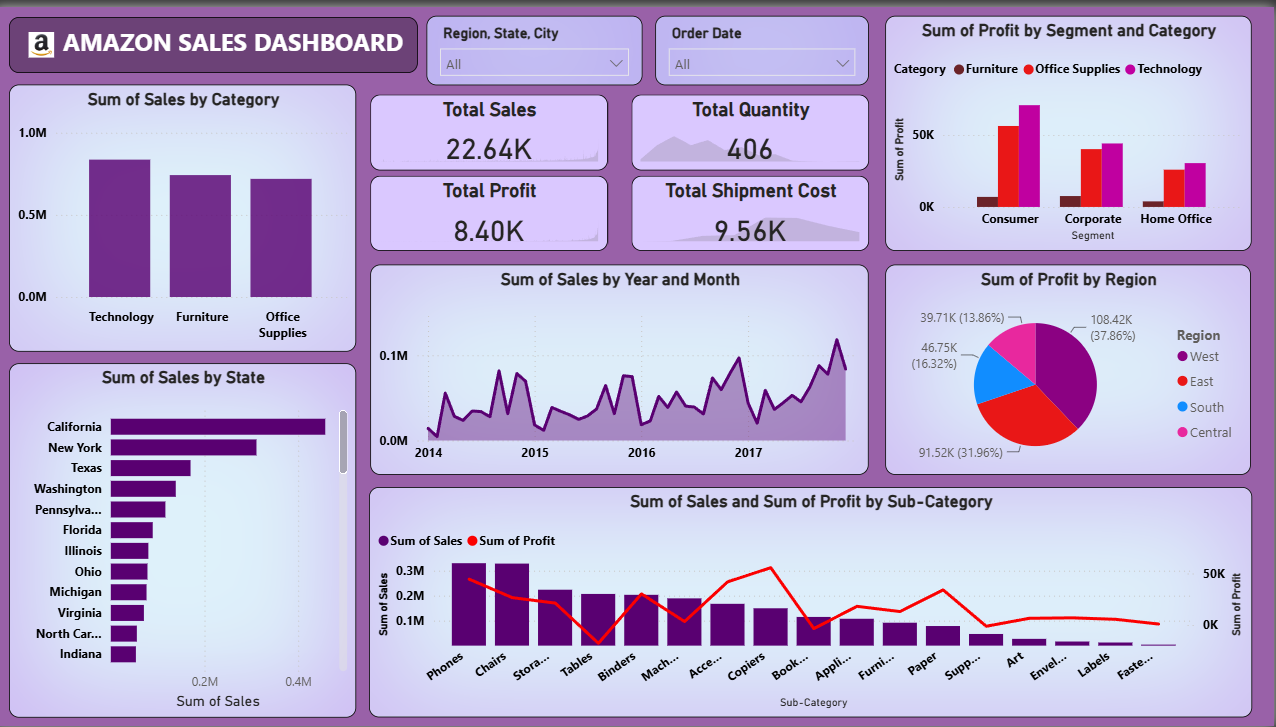

The page's visual inventory and layout, read from the dashboard file:
{"tool":"powerbi","page":{"name":"Amazon Sales Dashboard","canvas":[1280,720],"ordinal":1},"visuals":[{"type":"clusteredColumnChart","fields":{"Category":["Amazon sales dataset.Category"],"Y":["Sum(Amazon sales dataset.Sales)"]},"box":[15,77.5,347.5,267.5],"z":0},{"type":"areaChart","fields":{"Category":["Amazon sales dataset.Order Date.Variation.Date Hierarchy.Year","Amazon sales dataset.Order Date.Variation.Date Hierarchy.Month"],"Y":["Sum(Amazon sales dataset.Sales)"]},"box":[375.7,257.1,498.6,210],"z":1000},{"type":"clusteredColumnChart","fields":{"Category":["Amazon sales dataset.Segment"],"Series":["Amazon sales dataset.Category"],"Y":["Sum(Amazon sales dataset.Profit)"]},"box":[891.2,8.8,366.2,235],"z":2000},{"type":"lineClusteredColumnComboChart","fields":{"Category":["Amazon sales dataset.Sub-Category"],"Y":["Sum(Amazon sales dataset.Sales)"],"Y2":["Sum(Amazon sales dataset.Profit)"]},"box":[375.2,480.2,883.1,230.4],"z":3000},{"type":"clusteredBarChart","fields":{"Category":["Amazon sales dataset.State"],"Y":["Sum(Amazon sales dataset.Sales)"]},"box":[14.5,355.9,347.5,354.7],"z":4000},{"type":"pieChart","fields":{"Category":["Amazon sales dataset.Region"],"Y":["Sum(Amazon sales dataset.Profit)"]},"box":[891.4,257.1,365.7,210],"z":5000},{"type":"slicer","fields":{"Values":["Amazon sales dataset.Region","Amazon sales dataset.State","Amazon sales dataset.City"]},"box":[432.3,8.5,216.2,69.2],"z":6000},{"type":"slicer","fields":{"Values":["Amazon sales dataset.Order Date"]},"box":[661.5,8.5,213.8,69.2],"z":7000},{"type":"textbox","box":[15,10,408.8,56.2],"z":8000},{"type":"kpi","title":"Total Quantity","fields":{"Indicator":["Sum(Amazon sales dataset.Quantity)"],"TrendLine":["Amazon sales dataset.Quantity"]},"box":[637.7,87.7,237.5,76.2],"z":9000},{"type":"image","box":[33.6,25,27.1,25.7],"z":10000},{"type":"kpi","title":"Total Shipment Cost ","fields":{"Indicator":["Sum(Amazon sales dataset.Shipment Cost)"],"TrendLine":["Amazon sales dataset.Shipment Cost"]},"box":[637.5,168.8,237.5,75],"z":11000},{"type":"kpi","title":"Total Sales ","fields":{"Indicator":["Sum(Amazon sales dataset.Sales)"],"TrendLine":["Amazon sales dataset.Sales"]},"box":[376.2,87.7,237.5,76.2],"z":12000},{"type":"kpi","title":"Total Profit ","fields":{"Indicator":["Sum(Amazon sales dataset.Profit)"],"TrendLine":["Amazon sales dataset.Profit"]},"box":[376.2,168.8,237.5,75],"z":13000}]}

Visuals, with their boxes in screenshot pixels (x1, y1, x2, y2), scaled from the page's 1280x720 canvas onto the 1276x727 screenshot:
clusteredColumnChart - Amazon sales dataset.Category x Sum(Amazon sales dataset.Sales): region(15, 78, 361, 348)
areaChart - Amazon sales dataset.Order Date.Variation.Date Hierarchy.Year x Amazon sales dataset.Order Date.Variation.Date Hierarchy.Month: region(375, 260, 872, 472)
clusteredColumnChart - Amazon sales dataset.Segment x Amazon sales dataset.Category: region(888, 9, 1253, 246)
lineClusteredColumnComboChart - Amazon sales dataset.Sub-Category x Sum(Amazon sales dataset.Sales): region(374, 485, 1254, 718)
clusteredBarChart - Amazon sales dataset.State x Sum(Amazon sales dataset.Sales): region(14, 359, 361, 718)
pieChart - Amazon sales dataset.Region x Sum(Amazon sales dataset.Profit): region(889, 260, 1253, 472)
slicer - Amazon sales dataset.Region x Amazon sales dataset.State: region(431, 9, 646, 78)
slicer - Amazon sales dataset.Order Date: region(659, 9, 873, 78)
textbox: region(15, 10, 422, 67)
"Total Quantity" kpi: region(636, 89, 872, 165)
image: region(33, 25, 61, 51)
"Total Shipment Cost " kpi: region(636, 170, 872, 246)
"Total Sales " kpi: region(375, 89, 612, 165)
"Total Profit " kpi: region(375, 170, 612, 246)
